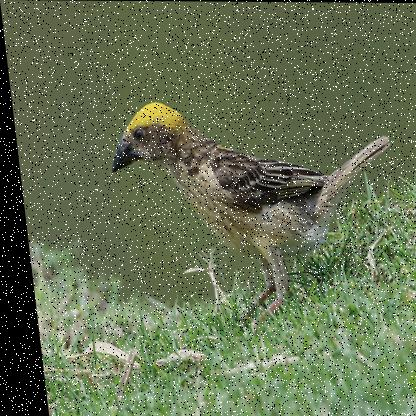Burung: (100, 101, 406, 334)
